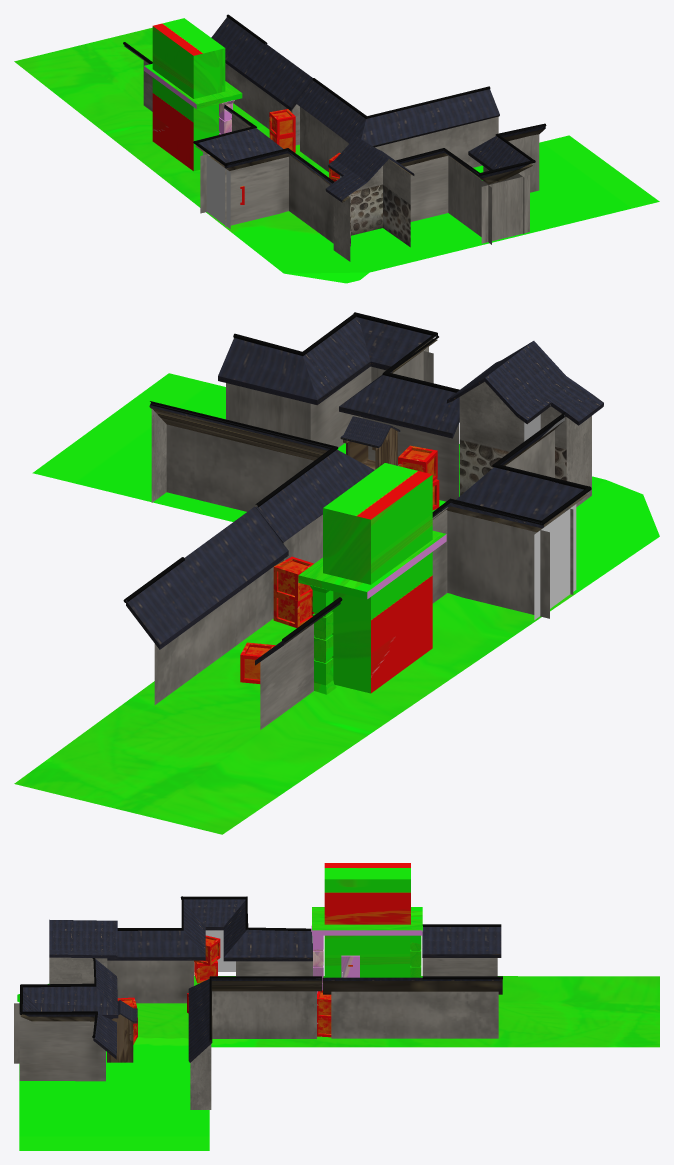
The model's file is 2.Street.fbx.
The picture shows the model from 3 angles, top to bottom: view 1: azimuth 30°, elevation 25°; view 2: azimuth 150°, elevation 25°; view 3: azimuth 270°, elevation 25°; orthographic projection. The views are drawn at different scales.
Visible parts, largest first — view 1: Izakaya, Plane.005, Cube.170, Wall.003, Street_Roof_Edge.008, Wall.004, Cube.147, box.002, Street_Roof_Edge.006, Street_Roof_Edge; view 2: Izakaya, Plane.005, Cube.170, Street_Roof_Edge.008, Wall.004, Cube.147, Cube.145, Wall.003, Street_Roof_Edge.006, box.002, box.003, box.006 (+2 smaller); view 3: Izakaya, Plane.005, Street_Roof_Edge.008, Cube.170, Wall.003, Cube.147, Street_Roof_Edge.006, Cube.145, Cube.169, box.008, Wall.004, Door_Iron.
Part boxes in pixels (left/top/right/bottom): Izakaya: left=195, top=44, right=545, bottom=261; Plane.005: left=14, top=27, right=659, bottom=283; Cube.170: left=152, top=18, right=225, bottom=171; Wall.003: left=225, top=156, right=333, bottom=243; Street_Roof_Edge.008: left=123, top=14, right=267, bottom=113; Wall.004: left=203, top=152, right=230, bottom=228; Cube.147: left=144, top=63, right=242, bottom=109; box.002: left=269, top=109, right=295, bottom=138; Street_Roof_Edge.006: left=312, top=78, right=490, bottom=118; Street_Roof_Edge: left=225, top=148, right=334, bottom=183; Izakaya: left=149, top=316, right=603, bottom=664; Plane.005: left=14, top=373, right=659, bottom=834; Cube.170: left=323, top=463, right=432, bottom=693; Street_Roof_Edge.008: left=123, top=557, right=342, bottom=729; Wall.004: left=534, top=504, right=576, bottom=619; Cube.147: left=298, top=530, right=446, bottom=599; Cube.145: left=309, top=585, right=336, bottom=694; Wall.003: left=505, top=430, right=573, bottom=594; Street_Roof_Edge.006: left=150, top=401, right=338, bottom=507; box.002: left=273, top=556, right=313, bottom=601; box.003: left=273, top=593, right=314, bottom=627; box.006: left=398, top=445, right=437, bottom=481; Izakaya: left=14, top=899, right=422, bottom=1109; Plane.005: left=17, top=975, right=659, bottom=1150; Street_Roof_Edge.008: left=422, top=924, right=502, bottom=1038; Cube.170: left=324, top=863, right=410, bottom=977; Wall.003: left=107, top=960, right=193, bottom=1003; Cube.147: left=312, top=907, right=422, bottom=935; Street_Roof_Edge.006: left=209, top=976, right=321, bottom=1040; Cube.145: left=410, top=926, right=422, bottom=977; Cube.169: left=311, top=925, right=323, bottom=993; box.008: left=194, top=935, right=220, bottom=965; Wall.004: left=194, top=930, right=235, bottom=971; Door_Iron: left=341, top=955, right=359, bottom=977.
Bounding box in the file's own units: 2059 × 671 × 3067.
